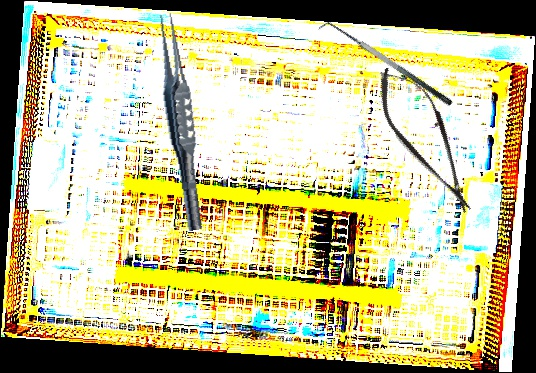Micro Scissor: (363, 55, 491, 224)
Spatula Surgical: (318, 13, 454, 117)
Tissue Forceps: (149, 11, 213, 233)
